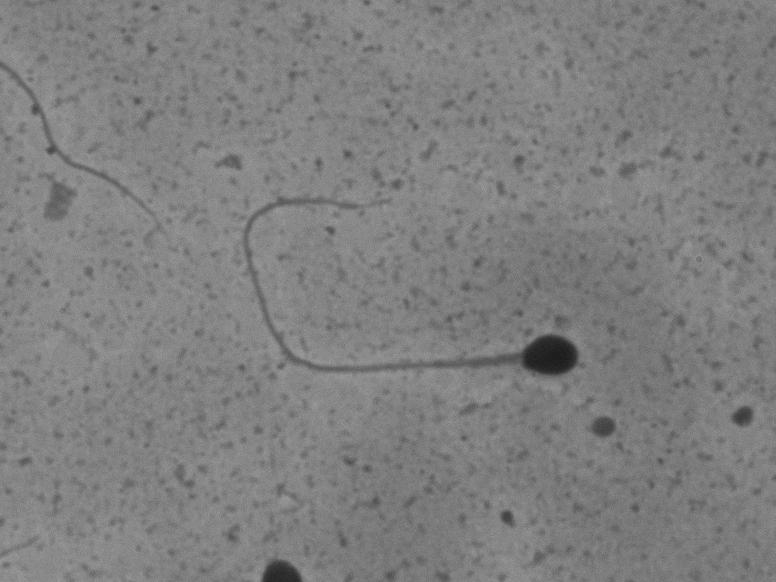Abnormal: (182, 167, 596, 422)
